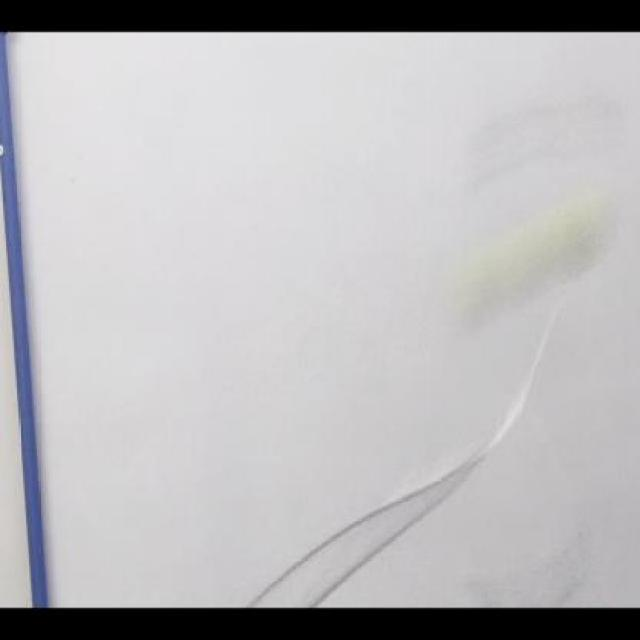baseball: (452, 196, 610, 324)
